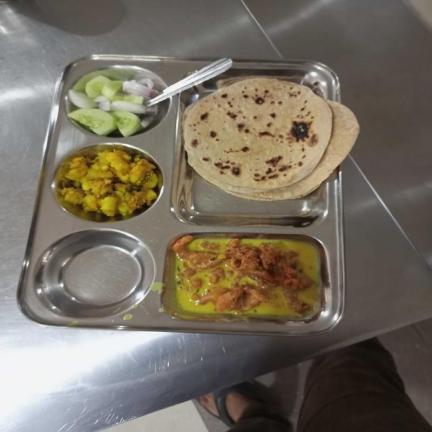Curry: (174, 235, 323, 317)
Plate: (16, 53, 346, 337)
Roti: (181, 78, 362, 200)
Salad: (68, 73, 164, 138)
Zeera Aalu: (60, 145, 158, 217)
